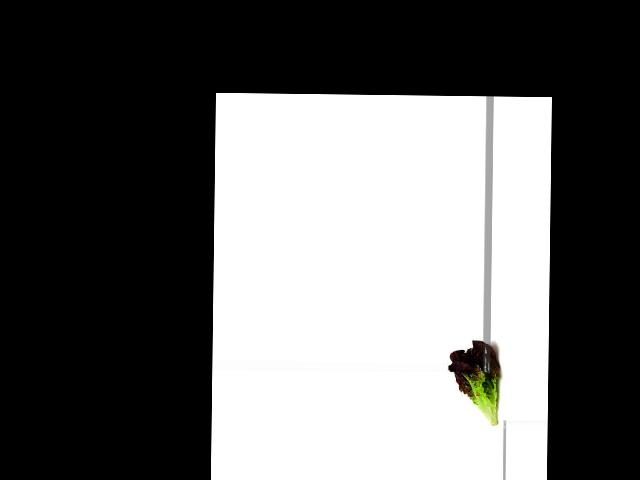lettuce: (447, 338, 504, 429)
